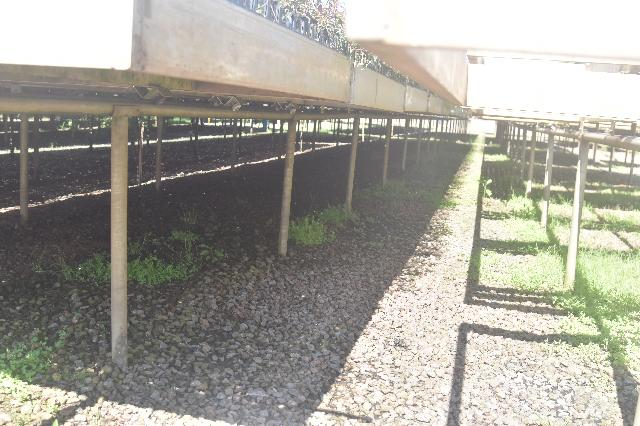MalezaMontesDelPlata: (48, 243, 196, 290), (0, 324, 67, 386), (285, 209, 337, 249), (475, 172, 497, 201)
